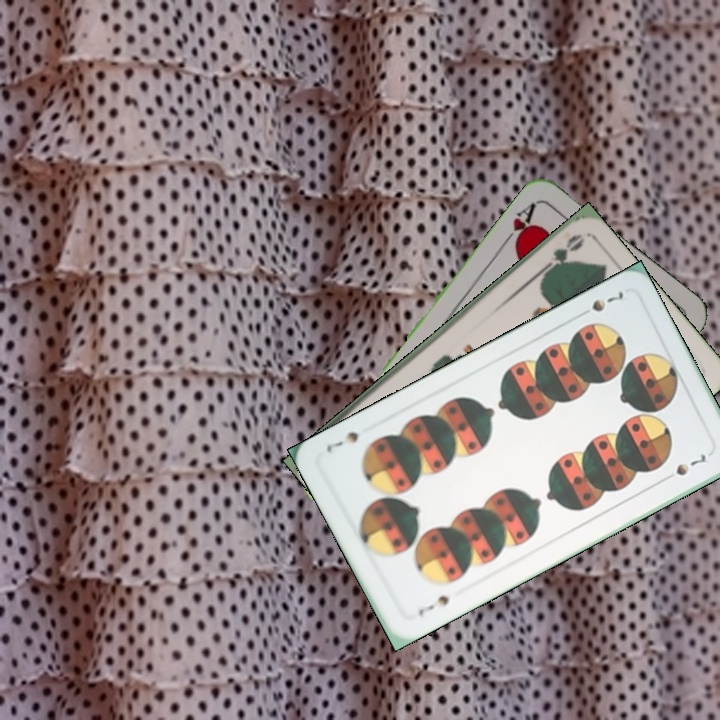GO: (535, 230, 586, 279)
HA: (497, 198, 539, 251)
S7: (587, 287, 627, 314), (414, 591, 452, 619)
